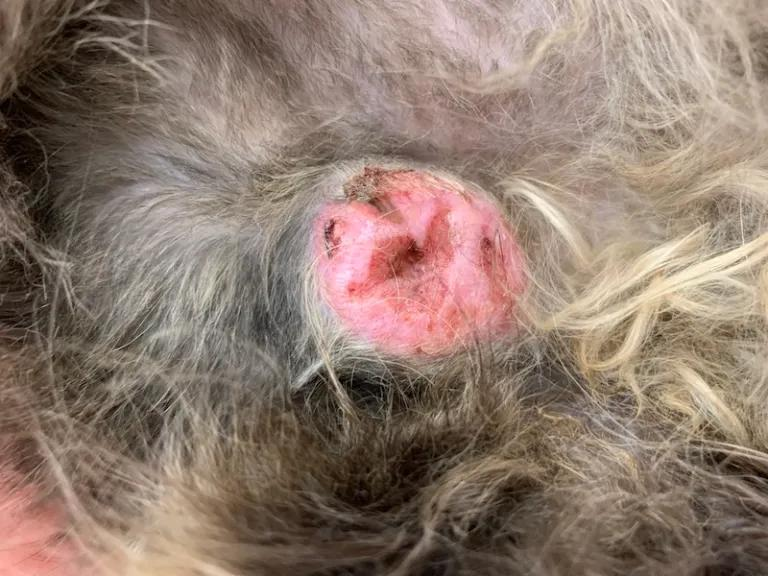lump_and_bump: (292, 135, 525, 363)
